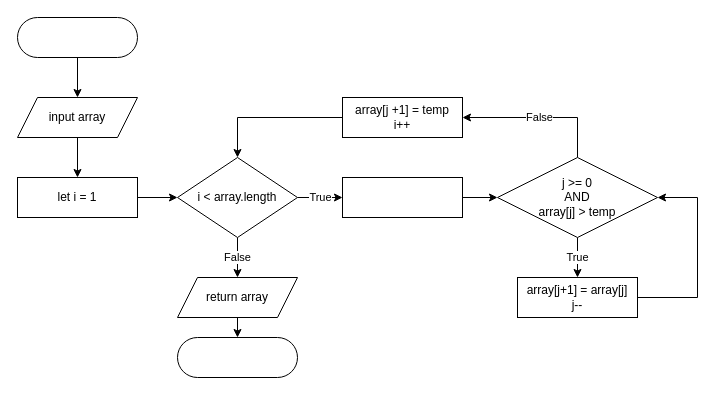
Image size: 723x395. Some labels were removed from this diagram. Here are the shapes that lost their labels. From the top down, the centre of each, then its label:
At point 77,37: "Start".
At point 402,197: "let j = i - 1 let temp = array[i]".
At point 237,357: "Stop".
